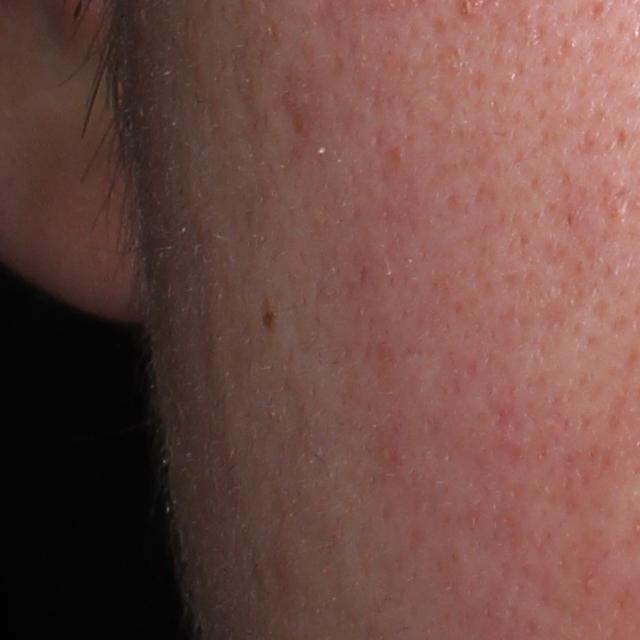nevus: (261, 310, 279, 331)
